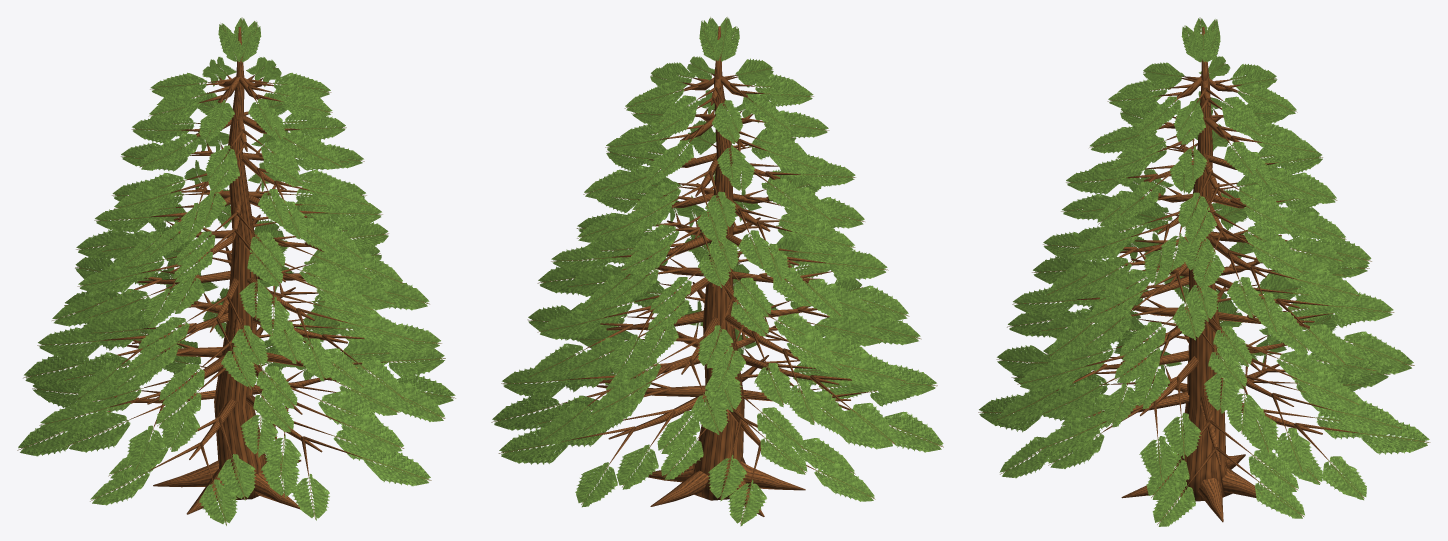
The model's file is LayeredFir_LOD1.glb.
The picture shows the model from 3 angles, left to right: view 1: azimuth 30°, elevation 25°; view 2: azimuth 150°, elevation 25°; view 3: azimuth 270°, elevation 25°; orthographic projection.
Visible parts, largest first — view 1: SM_LayeredFir_Foliage_LOD1, SM_LayeredFir_Bark_LOD1; view 2: SM_LayeredFir_Foliage_LOD1, SM_LayeredFir_Bark_LOD1; view 3: SM_LayeredFir_Foliage_LOD1, SM_LayeredFir_Bark_LOD1.
Part boxes in pixels (left/top/right/bottom): SM_LayeredFir_Foliage_LOD1: left=17, top=17, right=455, bottom=525; SM_LayeredFir_Bark_LOD1: left=103, top=27, right=385, bottom=514; SM_LayeredFir_Foliage_LOD1: left=491, top=17, right=943, bottom=526; SM_LayeredFir_Bark_LOD1: left=564, top=26, right=867, bottom=516; SM_LayeredFir_Foliage_LOD1: left=978, top=17, right=1430, bottom=526; SM_LayeredFir_Bark_LOD1: left=1046, top=27, right=1357, bottom=522.
Bounding box in the file's own units: 7.66 × 8.74 × 7.81.
Materials: 2 (2 with a texture image).
